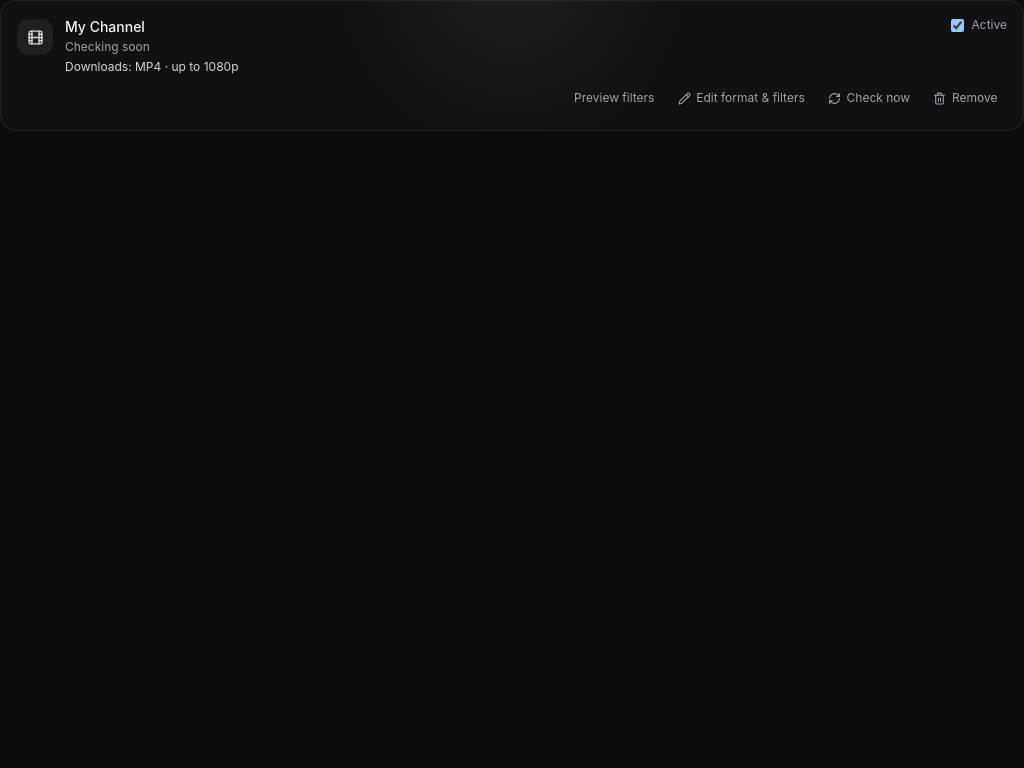
Test case: SubscriptionCard › keeps Save disabled until something changes
Click the button "Edit format & filters" at x=741, y=98, box top-left (668, 83), bottom-right (814, 114)
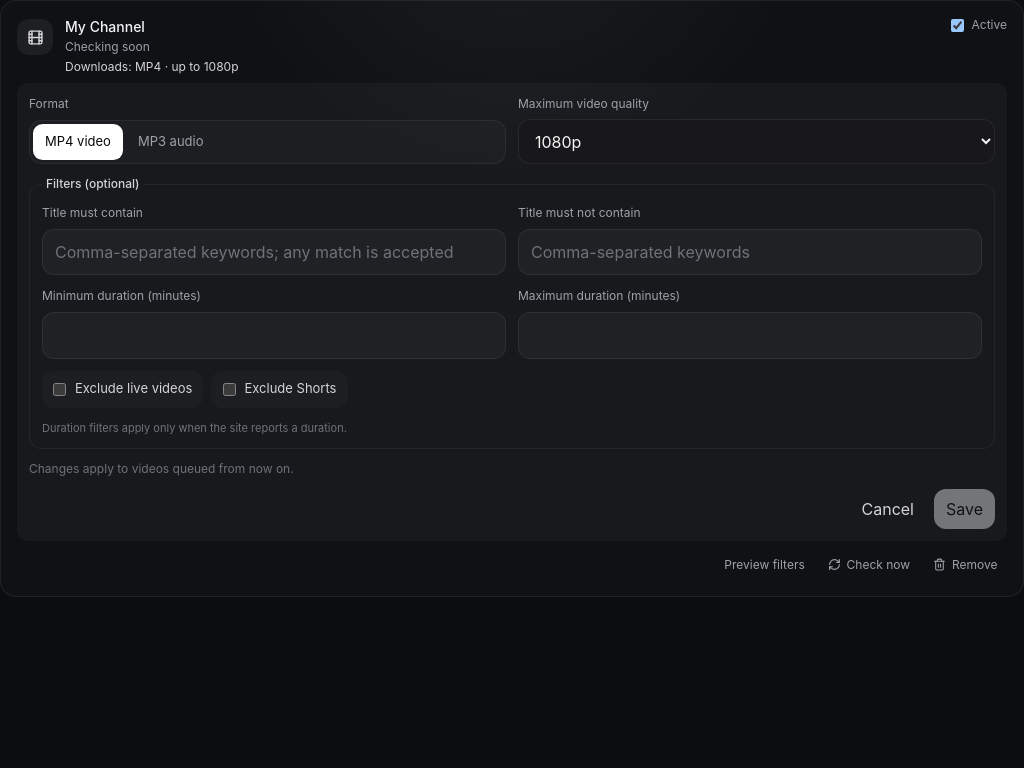
Result: the button "Save" is disabled at top-left (934, 489), bottom-right (995, 529)
Select "720p" in the dropdown labelled "Maximum video quality" at x=756, y=142, box top-left (518, 119), bottom-right (995, 164)
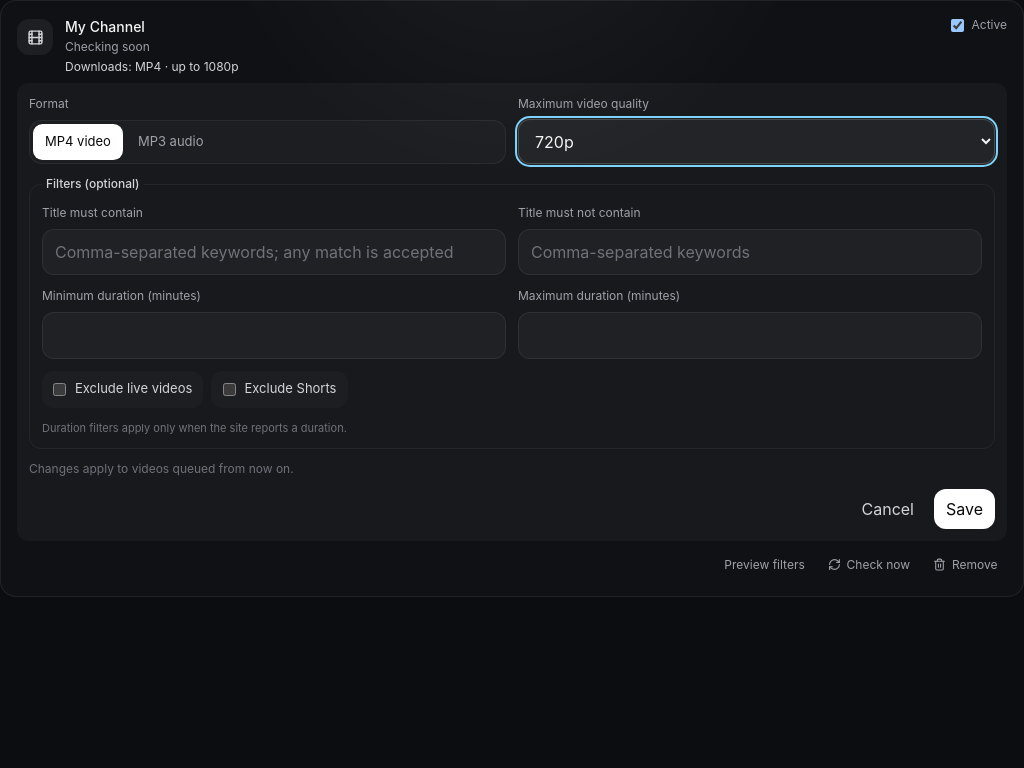
Result: the button "Save" is enabled at top-left (934, 489), bottom-right (995, 529)
